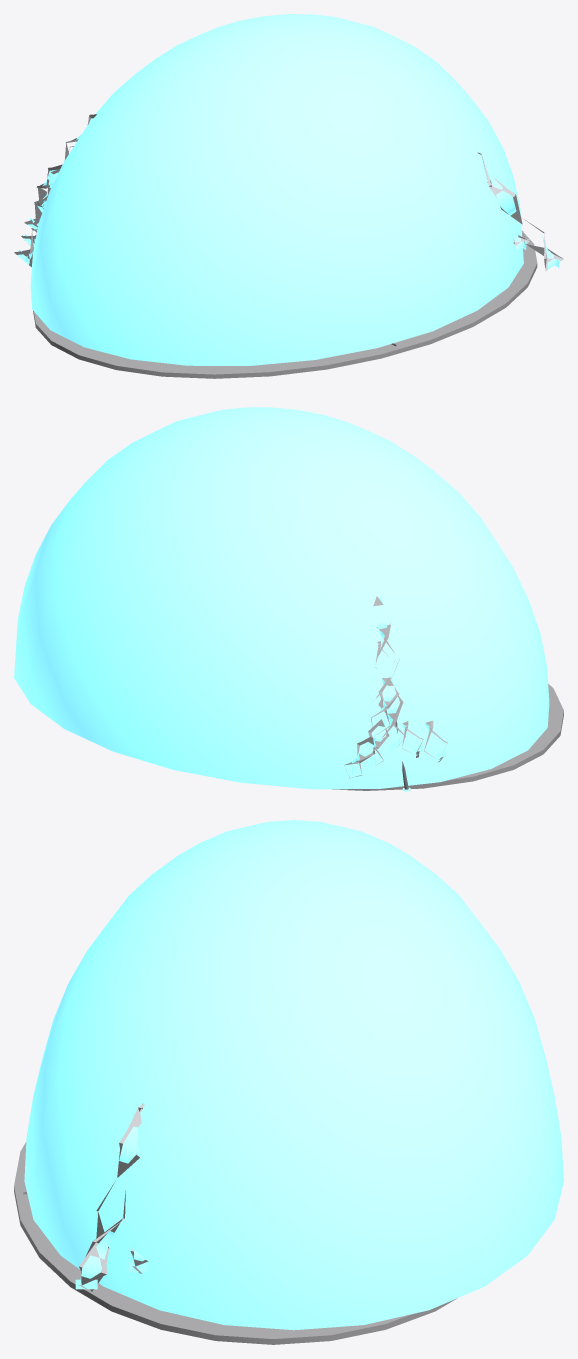
The model's file is 04_tron-lightcycle.glb.
The picture shows the model from 3 angles, top to bottom: view 1: azimuth 30°, elevation 25°; view 2: azimuth 150°, elevation 25°; view 3: azimuth 270°, elevation 25°; orthographic projection. The views are drawn at different scales.
Visible parts, largest first — view 1: blue_glow, concrete, silver_ribbons; view 2: blue_glow, concrete, silver_ribbons; view 3: blue_glow, concrete, silver_ribbons.
Part boxes in pixels (x1,y1,x2,y2): blue_glow: (17, 14, 560, 365); concrete: (33, 230, 537, 378); silver_ribbons: (14, 114, 563, 271); blue_glow: (14, 407, 549, 791); concrete: (332, 684, 563, 790); silver_ribbons: (344, 596, 447, 778); blue_glow: (24, 820, 563, 1330); concrete: (14, 1142, 457, 1344); silver_ribbons: (79, 1103, 148, 1292).
Size of the model in its own units: 70 by 36.11 by 53.
